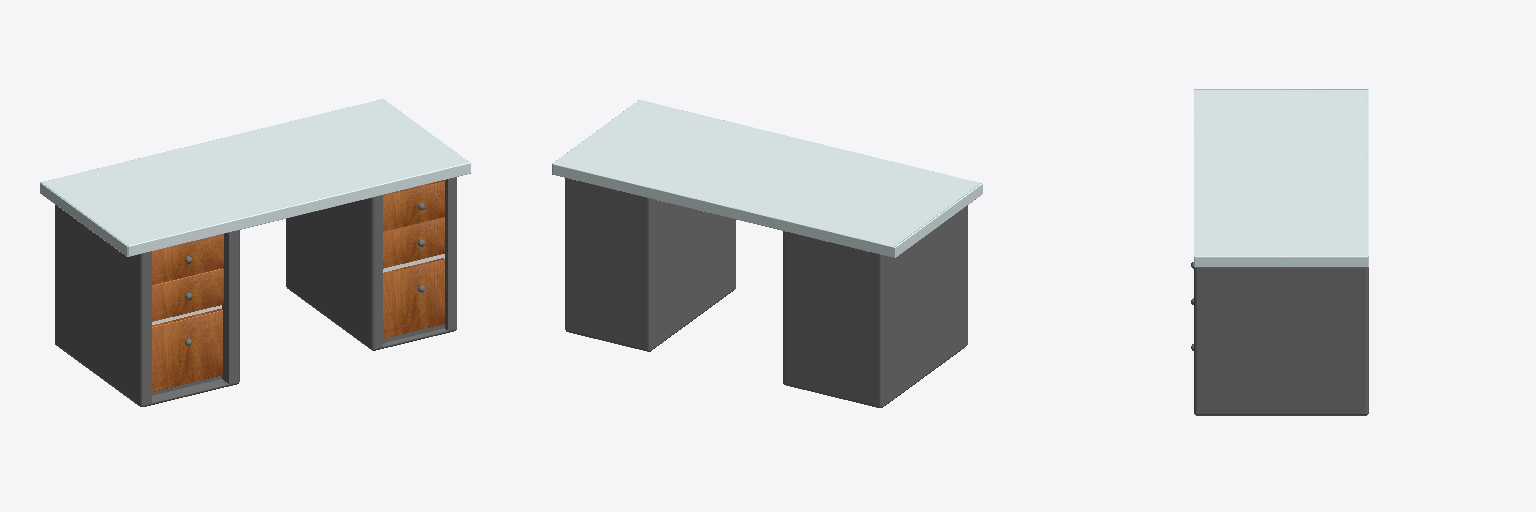
3 views of the same model, side by side, from view 1: azimuth 30°, elevation 25°; view 2: azimuth 150°, elevation 25°; view 3: azimuth 270°, elevation 25° (orthographic).
Parts seen in each view (by area): view 1: Planche, Base_, Base, Tiroir_3, Tiroir_3_1, Tiroir_2, Tiroir_1_, Tiroir_2_1, Tiroir_1__1; view 2: Planche, Base_, Base; view 3: Planche, Base.
Boxes of the visible parts, <box> form: Planche: <box>40,99,470,256</box>; Base_: <box>55,205,239,406</box>; Base: <box>286,177,456,350</box>; Tiroir_3: <box>152,309,222,391</box>; Tiroir_3_1: <box>383,258,444,338</box>; Tiroir_2: <box>152,268,223,321</box>; Tiroir_1_: <box>152,234,223,284</box>; Tiroir_2_1: <box>383,217,444,268</box>; Tiroir_1__1: <box>383,180,444,231</box>; Planche: <box>552,100,982,257</box>; Base_: <box>783,205,967,407</box>; Base: <box>565,178,735,351</box>; Planche: <box>1194,89,1368,267</box>; Base: <box>1194,268,1368,415</box>.
Size of the model in its own units: 454 by 210 by 204.
Materials: 4 (2 with a texture image).